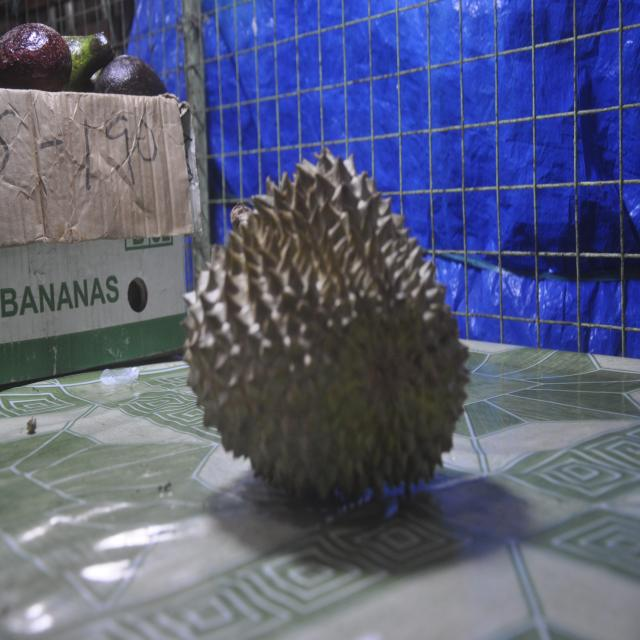mature: (173, 131, 483, 518)
